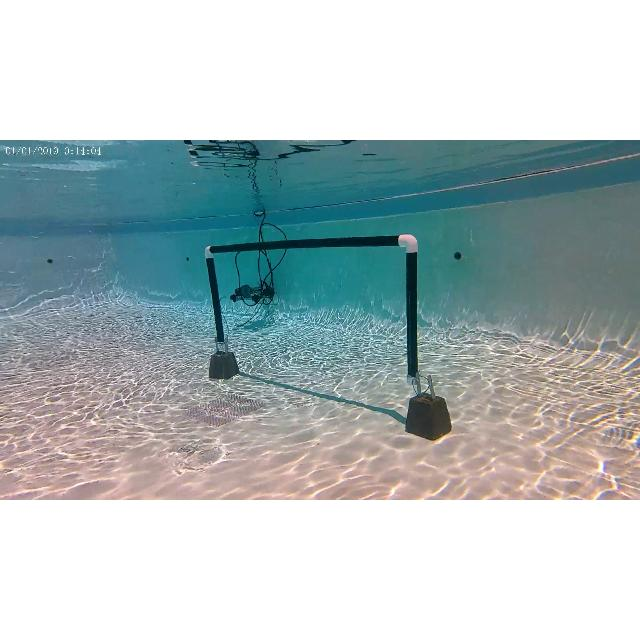prequal gate: (205, 234, 421, 386)
prequal gate leg l: (203, 234, 241, 382)
prequal gate leg r: (388, 234, 436, 386)
